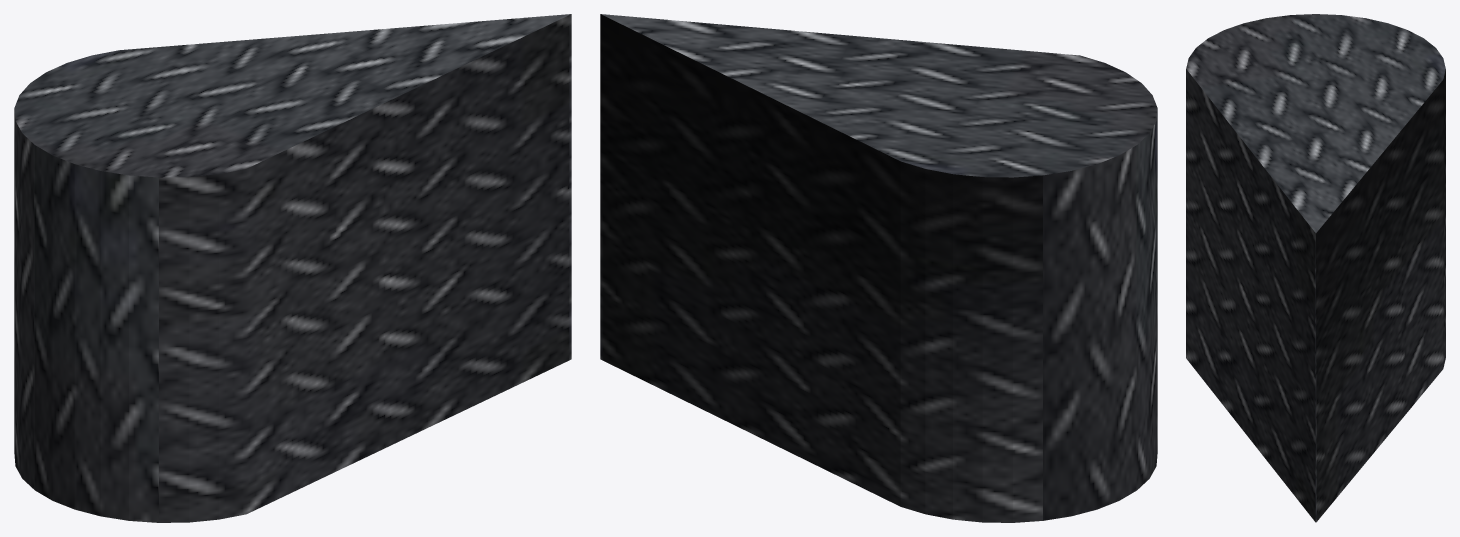
The model's file is paddle.obj.
3 views of the same model, side by side, from view 1: azimuth 30°, elevation 25°; view 2: azimuth 150°, elevation 25°; view 3: azimuth 270°, elevation 25° (orthographic). The views are drawn at different scales.
Parts seen in each view (by area): view 1: Paddle_Circle; view 2: Paddle_Circle; view 3: Paddle_Circle.
Part boxes in pixels (left/top/right/bottom): Paddle_Circle: left=14, top=14, right=571, bottom=522; Paddle_Circle: left=600, top=14, right=1157, bottom=522; Paddle_Circle: left=1186, top=14, right=1445, bottom=522.
Bounding box in the file's own units: 0.4 × 0.246 × 0.2.
